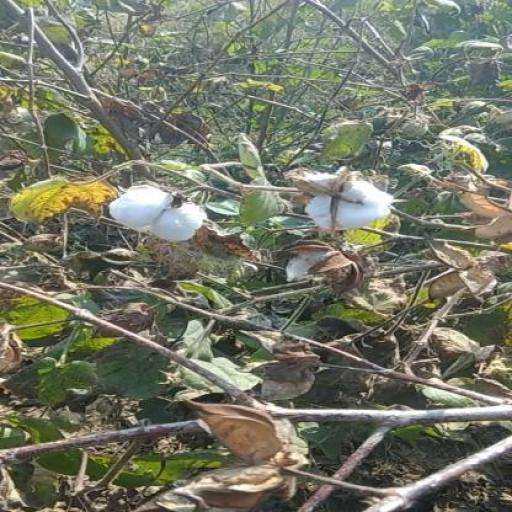cotton_ready: (286, 160, 401, 240), (100, 189, 214, 245)
